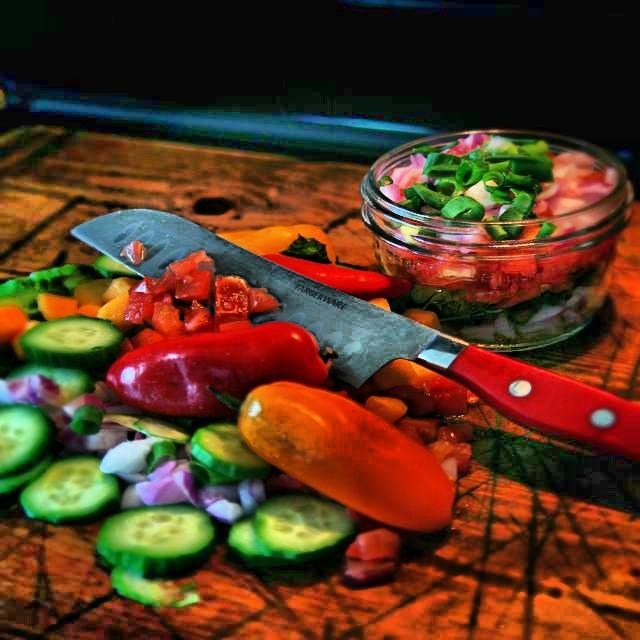knife: (70, 201, 640, 450)
